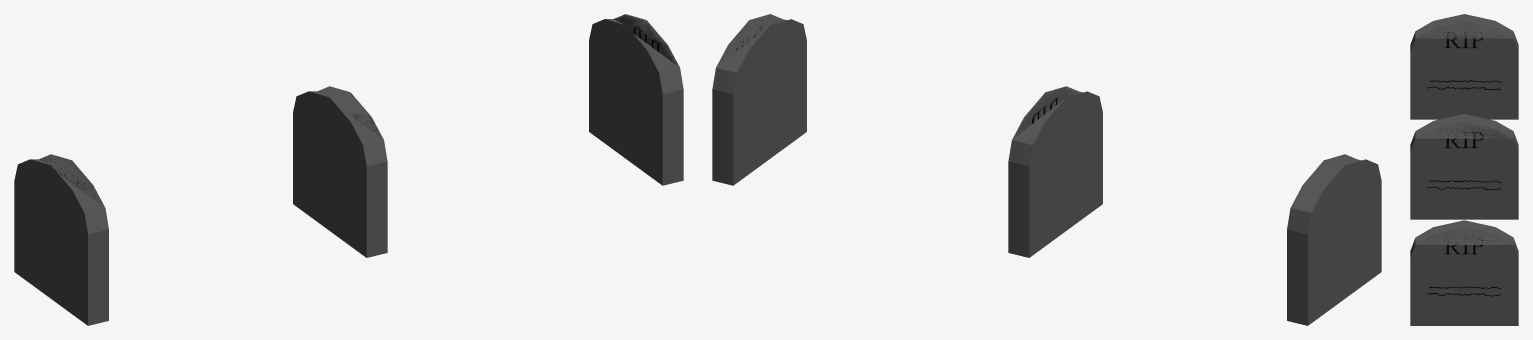
File: grave column.fbx
The picture shows the model from 3 angles, left to right: view 1: azimuth 30°, elevation 25°; view 2: azimuth 150°, elevation 25°; view 3: azimuth 270°, elevation 25°; orthographic projection. The views are drawn at different scales.
Visible parts, largest first — view 1: Grave, Grave.001, Grave.002; view 2: Grave.002, Grave, Grave.001; view 3: Grave.001, Grave.002, Grave.
Part boxes in pixels (x1,y1,x2,y2): Grave: (14, 154, 108, 325); Grave.001: (293, 86, 387, 257); Grave.002: (589, 14, 683, 185); Grave.002: (712, 14, 806, 185); Grave: (1287, 154, 1381, 325); Grave.001: (1008, 86, 1102, 257); Grave.001: (1410, 114, 1518, 219); Grave.002: (1410, 220, 1518, 325); Grave: (1410, 14, 1518, 119).
Bounding box in the file's own units: 933 × 200 × 200.
